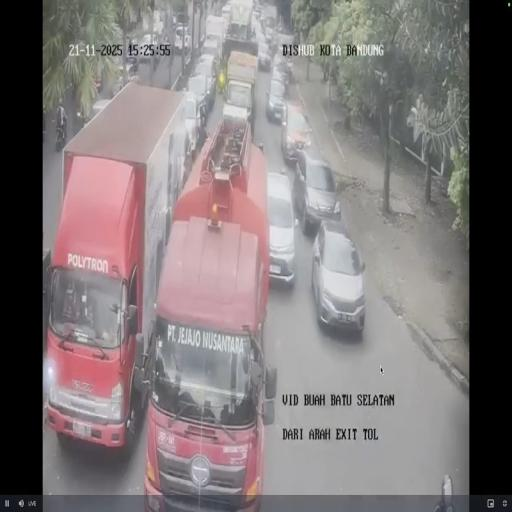3: (46, 80, 194, 452), (91, 98, 113, 122)
car: (293, 151, 339, 232), (280, 99, 312, 163), (184, 72, 212, 134), (265, 77, 287, 125), (134, 33, 160, 63), (201, 36, 220, 69), (122, 58, 139, 84), (282, 53, 294, 84), (258, 40, 270, 70), (221, 6, 231, 28), (264, 25, 274, 45)
